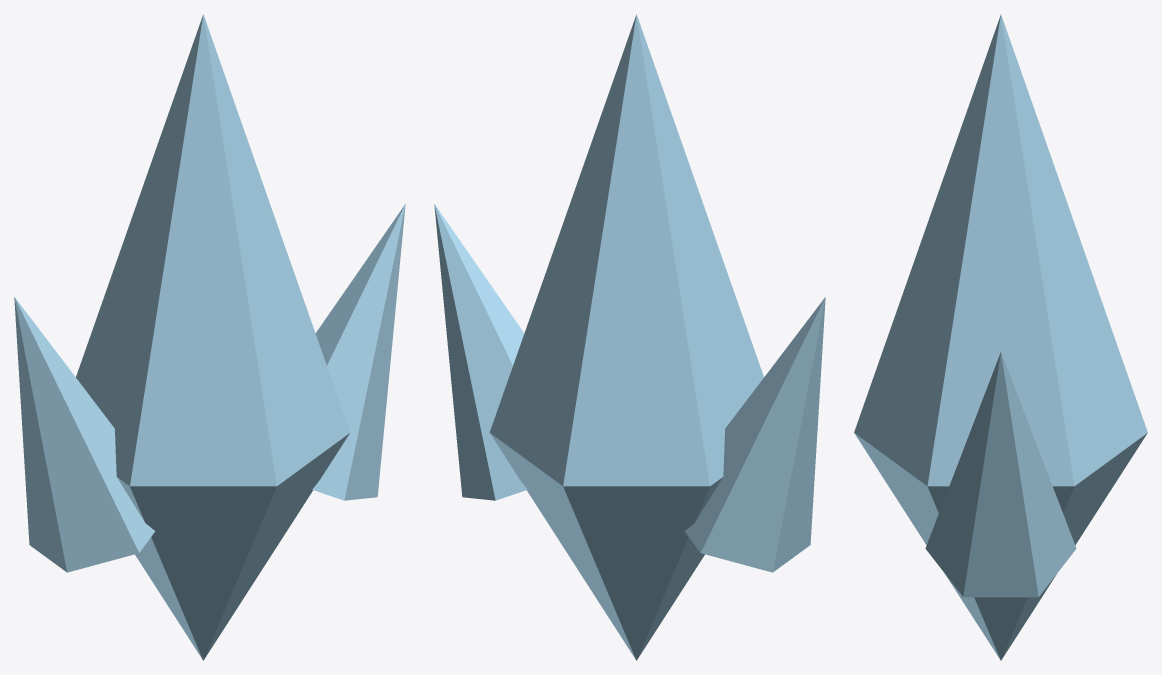
Rendered from crystal.glb.
The picture shows the model from 3 angles, left to right: view 1: azimuth 30°, elevation 25°; view 2: azimuth 150°, elevation 25°; view 3: azimuth 270°, elevation 25°; orthographic projection.
Parts seen in each view (by area): view 1: crystal; view 2: crystal; view 3: crystal.
Part boxes in pixels (x1,y1,x2,y2): crystal: (14,14,405,660); crystal: (434,14,825,660); crystal: (854,14,1147,660).
Bounding box in the file's own units: 0.9497 × 1.5 × 0.6176.
